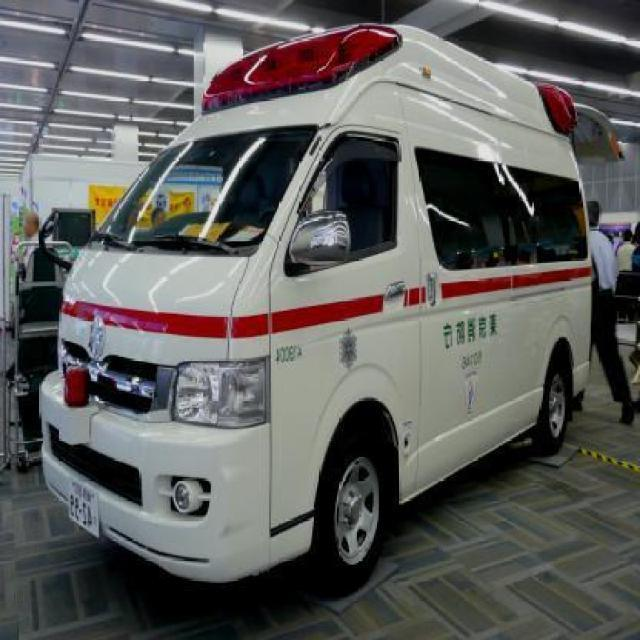emergency: (38, 21, 600, 597)
